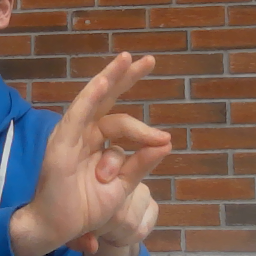Q: (42, 49, 176, 253)
